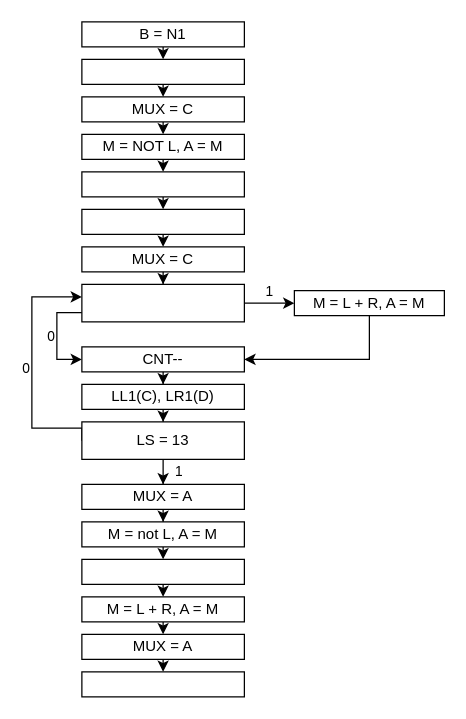
Image size: 466x719. Some labels were removed from this diagram. Each missing label, with the box of its shape:
C = N2: (81, 58, 244, 84)
DOUT: (81, 671, 244, 697)
LS = 8: (81, 283, 244, 322)
MUX = A, C = A, D = A: (81, 171, 244, 197)
MUX = B: (81, 558, 244, 584)
RESET(A): (81, 208, 244, 234)
